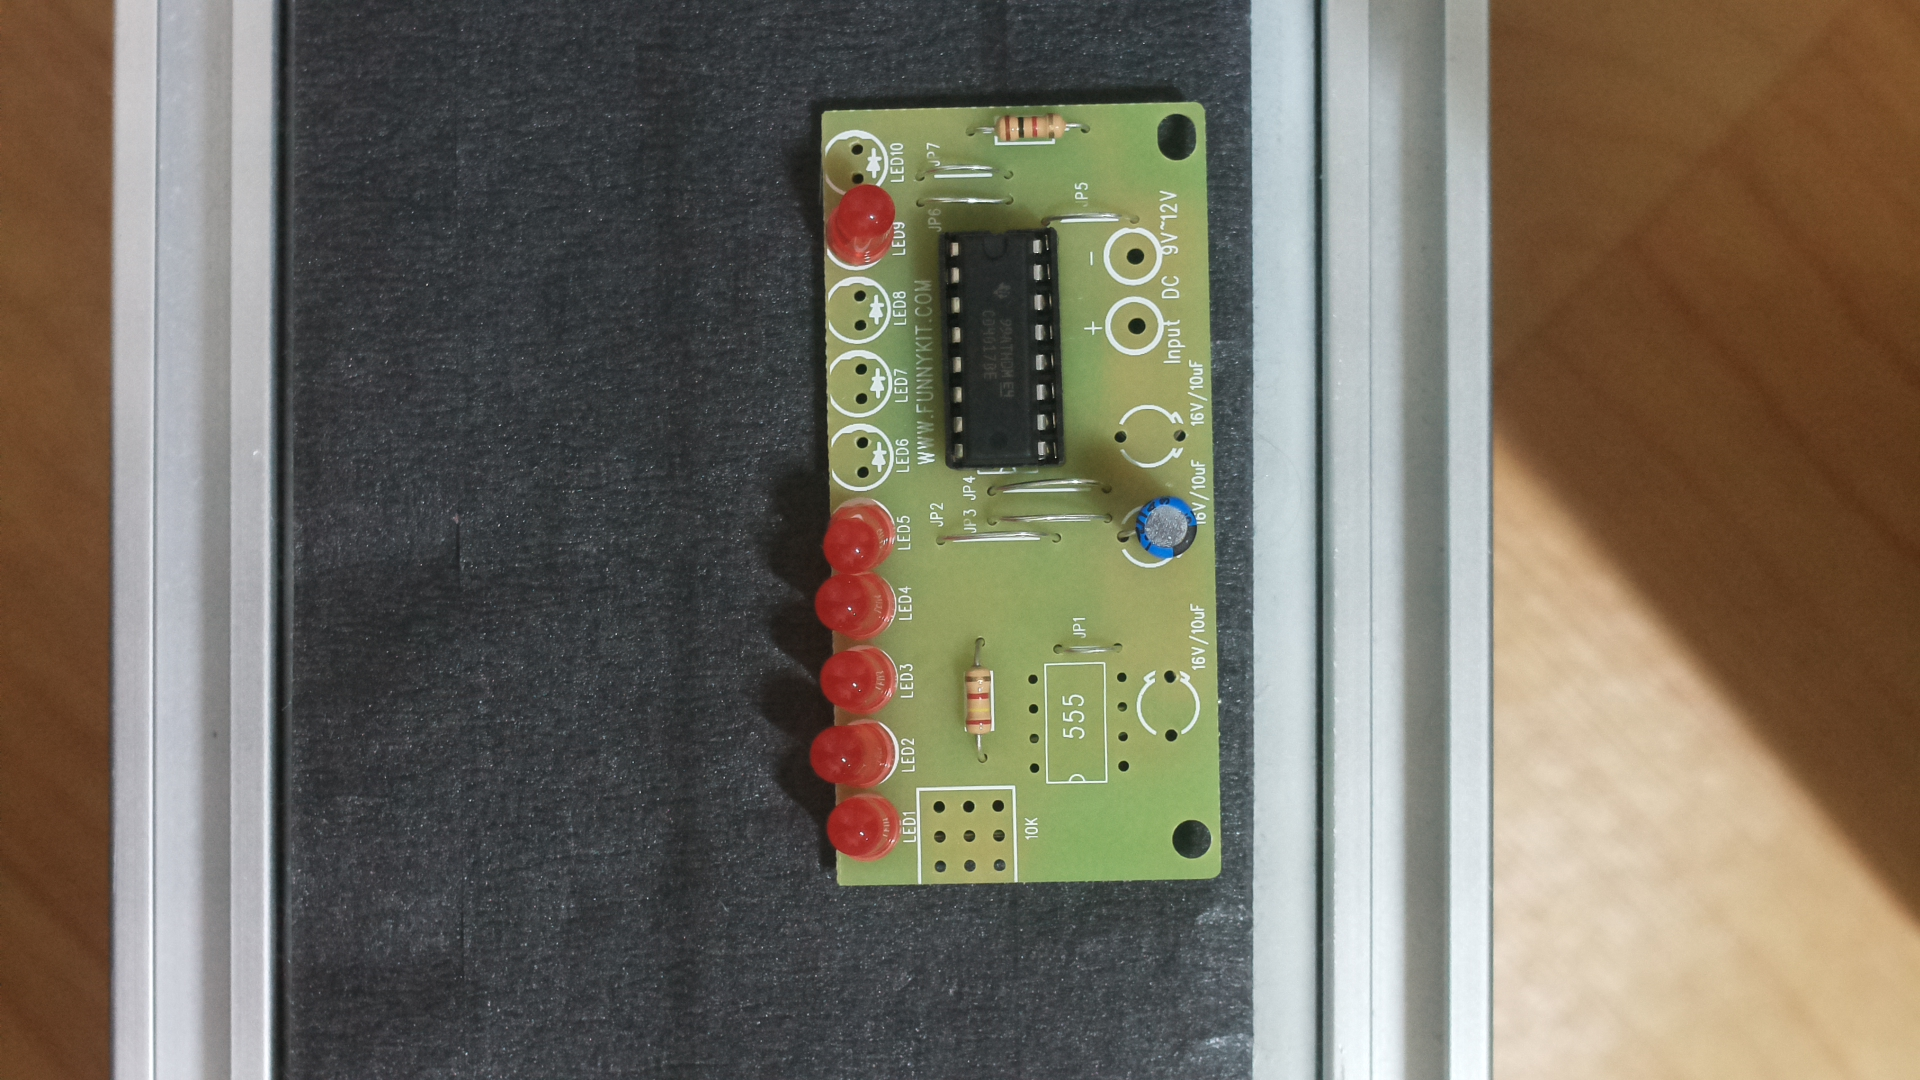B_Missing_part: (798, 88, 1236, 905)
